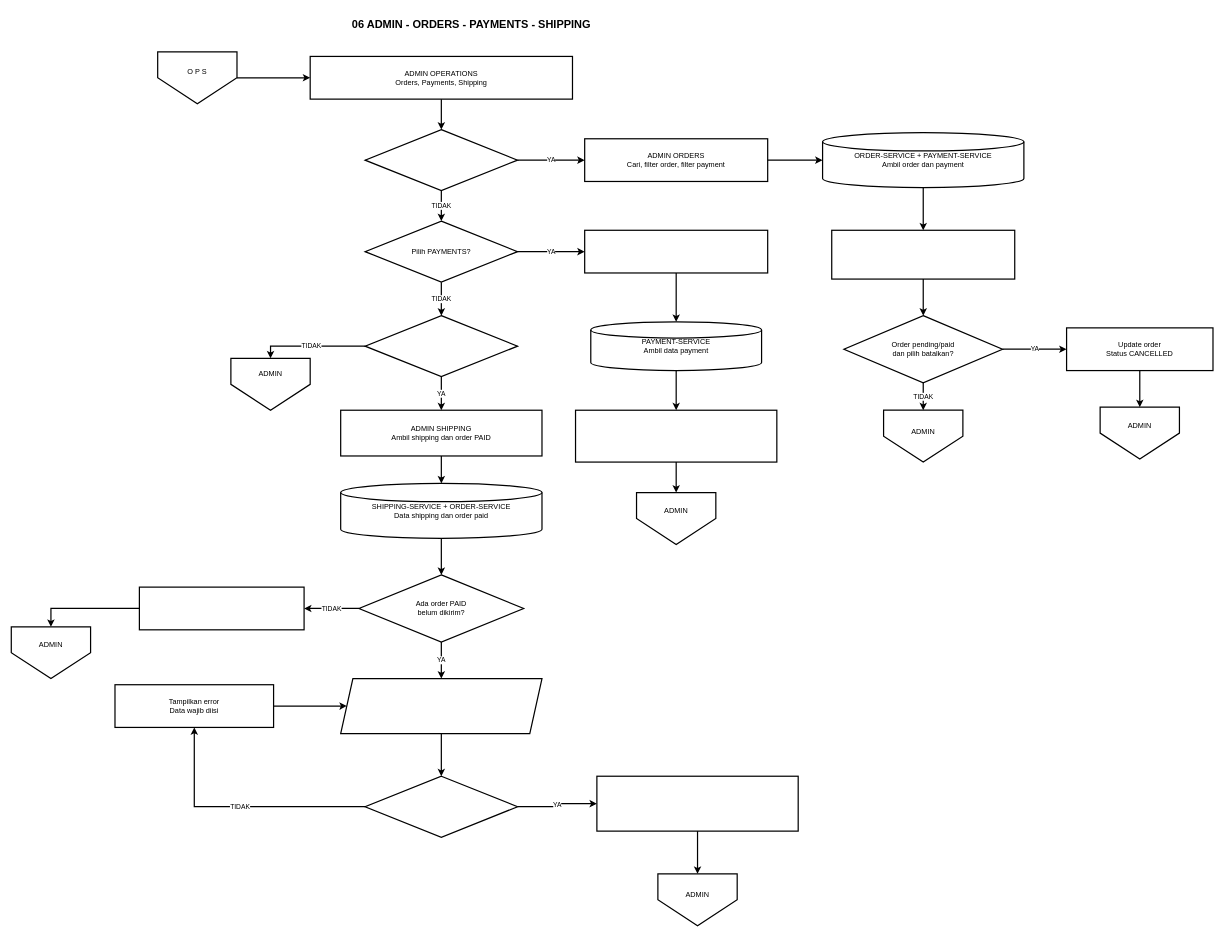
Image size: 1224x936. Some labels were removed from this diagram. Here are the shapes that lost their labels. From the top down, the box of each, then its label:
(364, 129, 518, 191): Pilih ORDERS?
(584, 229, 768, 273): ADMIN PAYMENTS Cari, filter status payment
(831, 229, 1015, 279): Tampilkan detail order Item, customer, status, payment
(364, 315, 518, 377): Pilih SHIPPING?
(575, 409, 777, 462): Lihat detail payment SUCCESS / PENDING / FAILED / EXPIRED
(138, 586, 304, 630): Tampilkan pesan Tidak ada order siap kirim
(340, 678, 542, 734): FORM SHIPPING Pilih order, courier, resi, estimasi hari
(364, 775, 518, 838): Courier & resi terisi?
(596, 775, 798, 831): Simpan shipping Update order menjadi SHIPPED Kirim notifikasi
